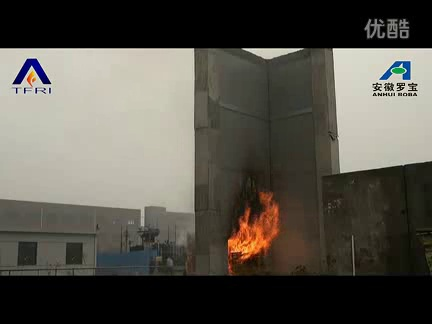fire: (225, 191, 283, 268)
